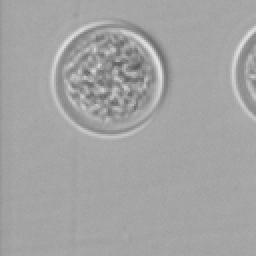picoshell: (50, 20, 166, 136), (230, 24, 254, 120)
